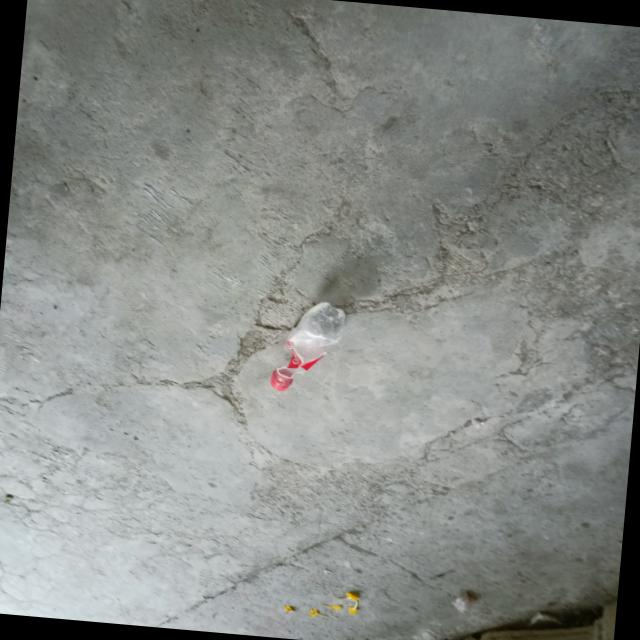Bottle: (270, 302, 345, 391)
